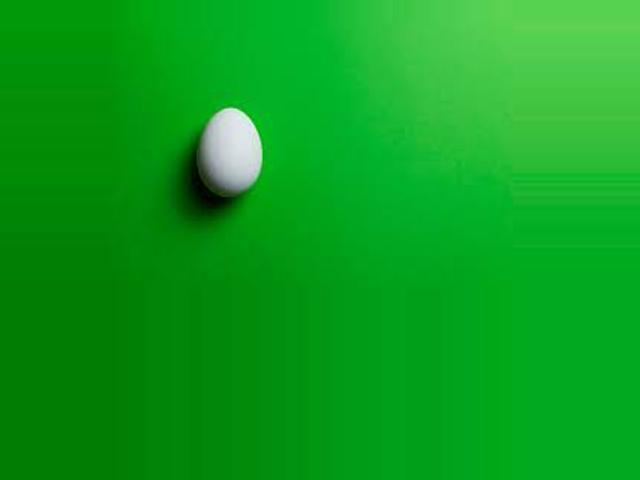egg: (196, 107, 261, 197)
